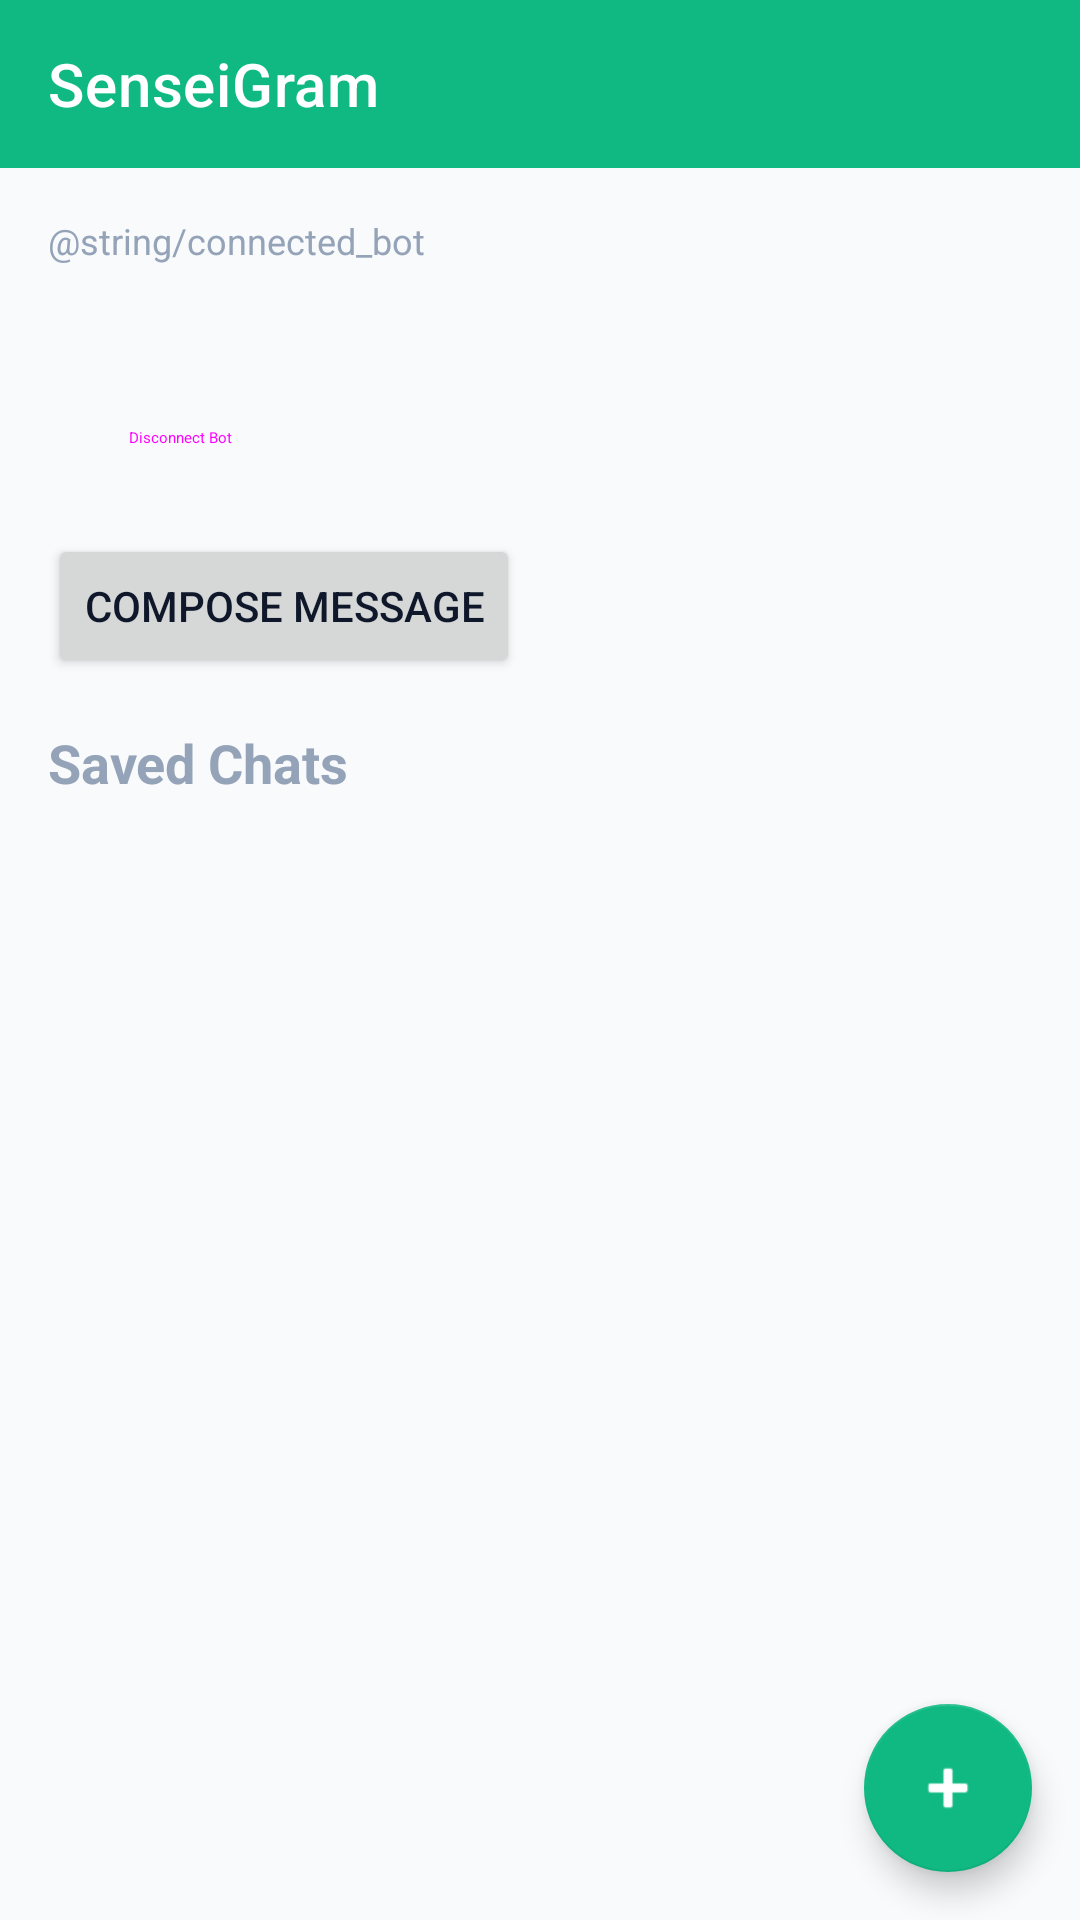

Icon click points for this 1080×1920 phone screenshot, format point (x, y):
Add Chat: point (948, 1788)
